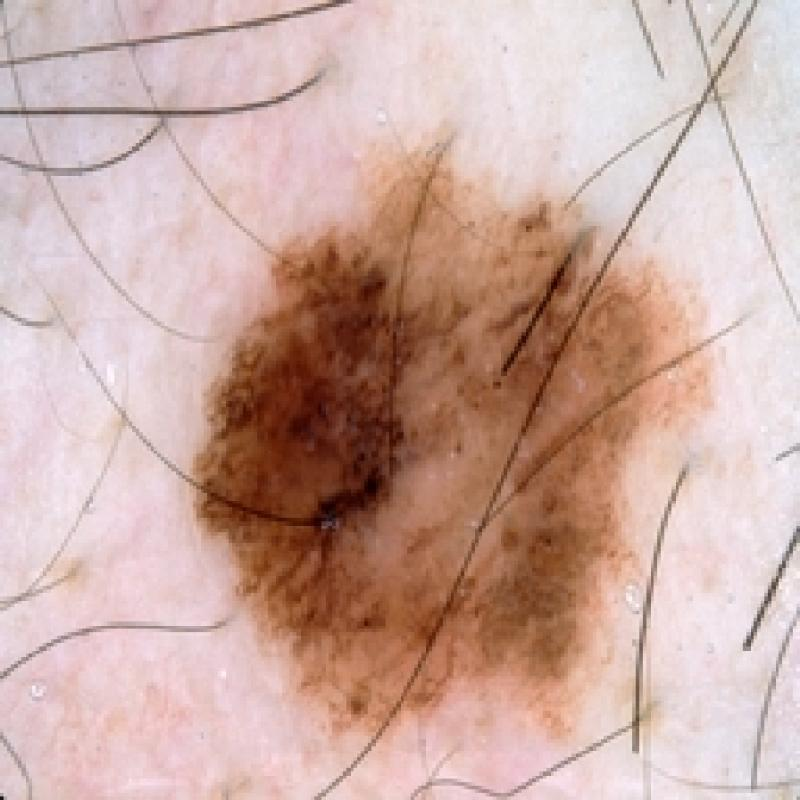malignant: (177, 116, 690, 724)
